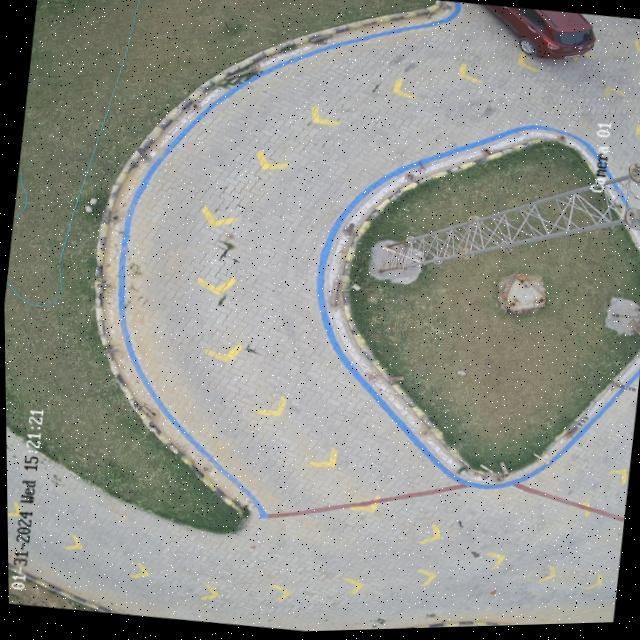car: (483, 6, 595, 62)
